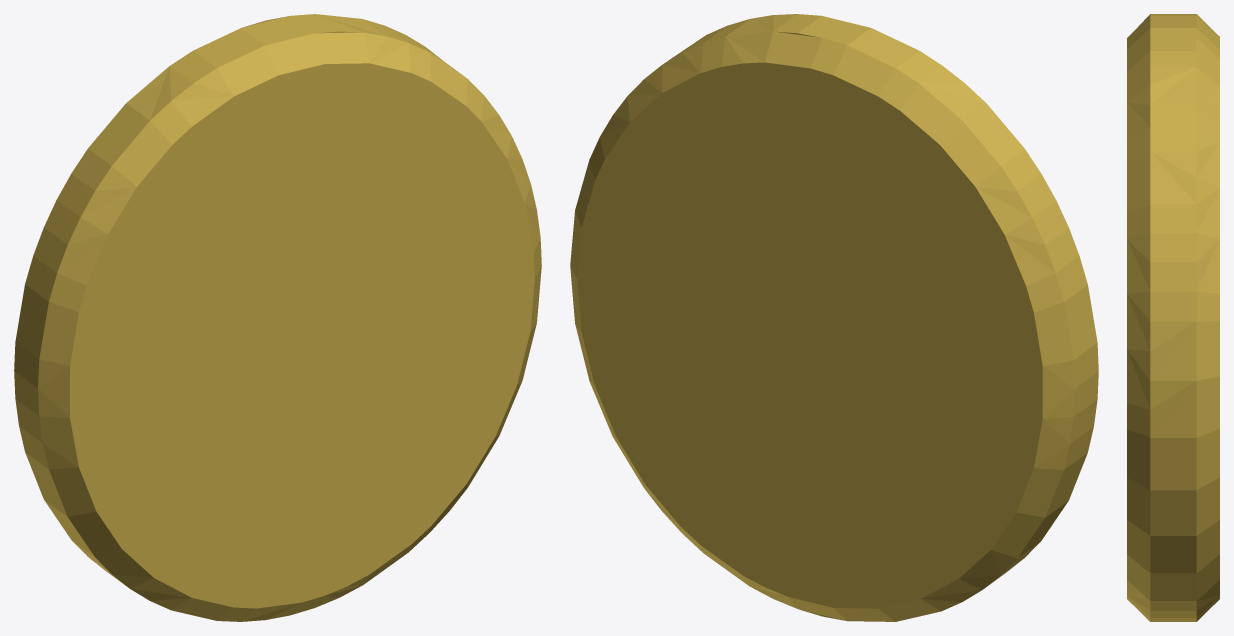
The model's file is gold_coin_3.glb.
3 views of the same model, side by side, from view 1: azimuth 30°, elevation 25°; view 2: azimuth 150°, elevation 25°; view 3: azimuth 270°, elevation 25° (orthographic). The views are drawn at different scales.
Visible parts, largest first — view 1: Cylinder; view 2: Cylinder; view 3: Cylinder.
Part boxes in pixels (x1=…): Cylinder: x1=14, y1=14, x2=541, y2=621; Cylinder: x1=570, y1=14, x2=1098, y2=621; Cylinder: x1=1127, y1=14, x2=1219, y2=621.
Bounding box in the file's own units: 1.83 × 2 × 0.3.
